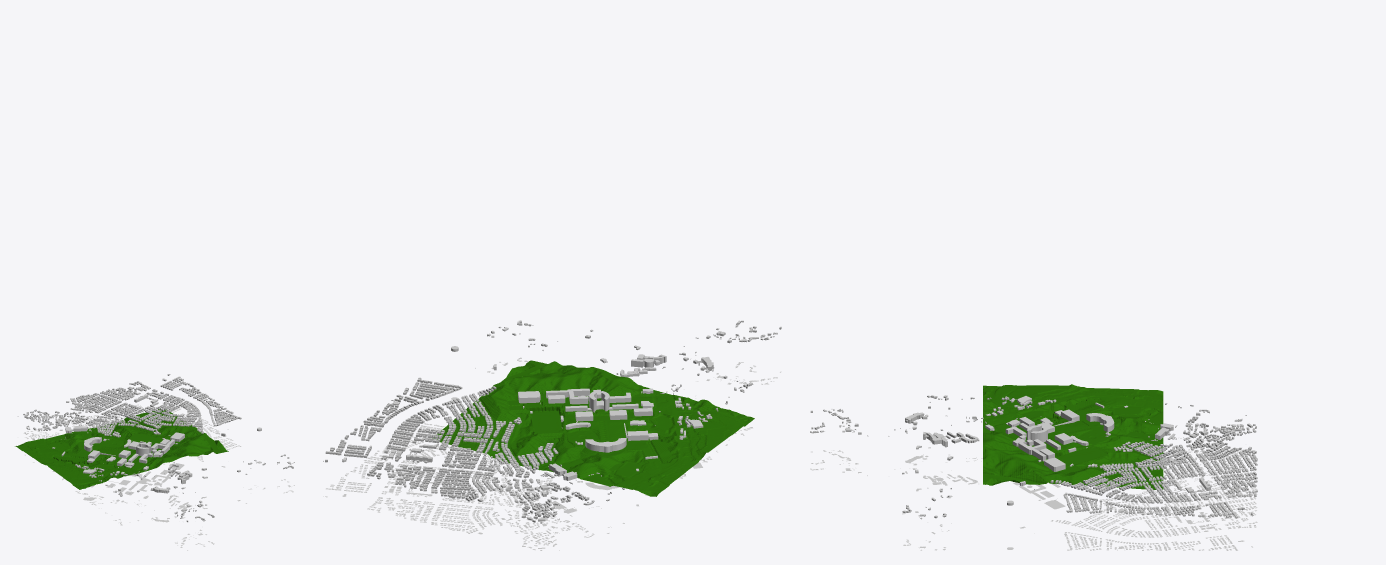
File: gakkou04.glb
The picture shows the model from 3 angles, left to right: view 1: azimuth 30°, elevation 25°; view 2: azimuth 150°, elevation 25°; view 3: azimuth 270°, elevation 25°; orthographic projection. The views are drawn at different scales.
Visible parts, largest first — view 1: CityGML.001, dem, CityGML; view 2: CityGML.001, dem, CityGML; view 3: CityGML.001, dem, CityGML.
Part boxes in pixels (<box>): CityGML.001: <box>17,374,241,494</box>; dem: <box>15,409,228,489</box>; CityGML: <box>83,427,294,550</box>; CityGML.001: <box>323,368,686,550</box>; dem: <box>432,360,754,496</box>; CityGML: <box>451,320,781,468</box>; CityGML.001: <box>1018,399,1257,550</box>; dem: <box>983,384,1163,489</box>; CityGML: <box>810,395,1041,550</box>.
Size of the model in its own units: 127 by 229 by 233.
